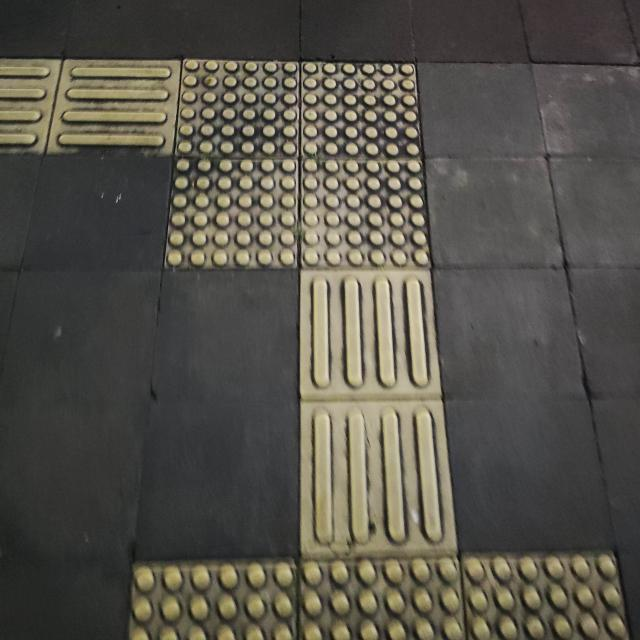kiri: (58, 47, 436, 346)
